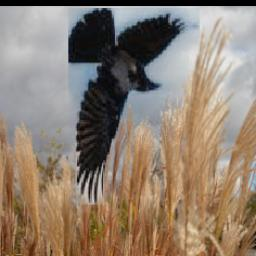Crow: (67, 9, 199, 206)
